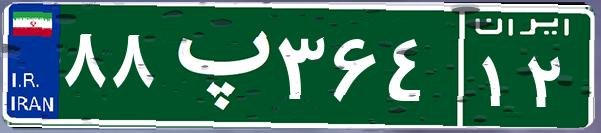1: (475, 38, 525, 113)
2: (525, 38, 570, 115)
3: (273, 28, 330, 110)
4: (385, 28, 445, 110)
6: (330, 28, 385, 110)
8: (57, 26, 110, 107), (110, 28, 158, 105)
پ: (158, 15, 273, 115)
